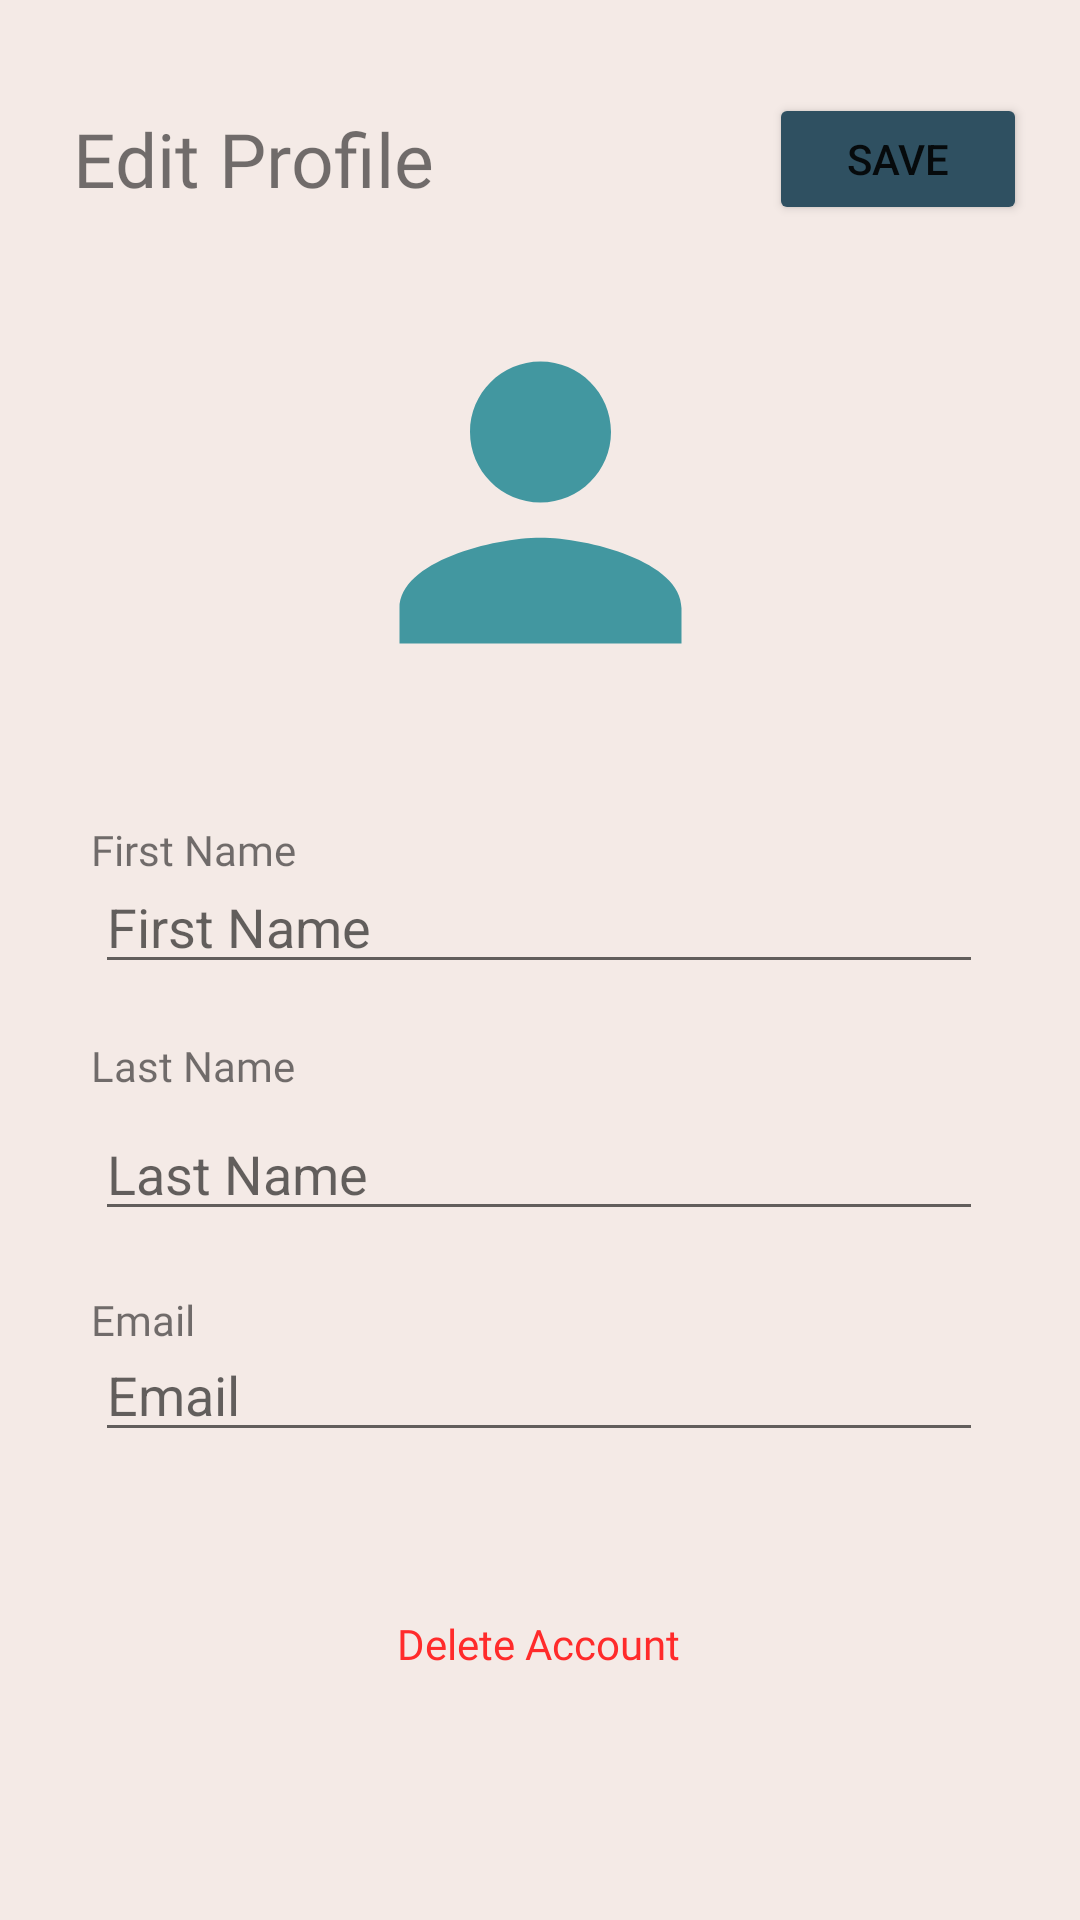

Icons on this 1080 x 1920 Android screen, each with its box as (x1, y1, x2, y2):
person: (399, 361, 682, 644)
